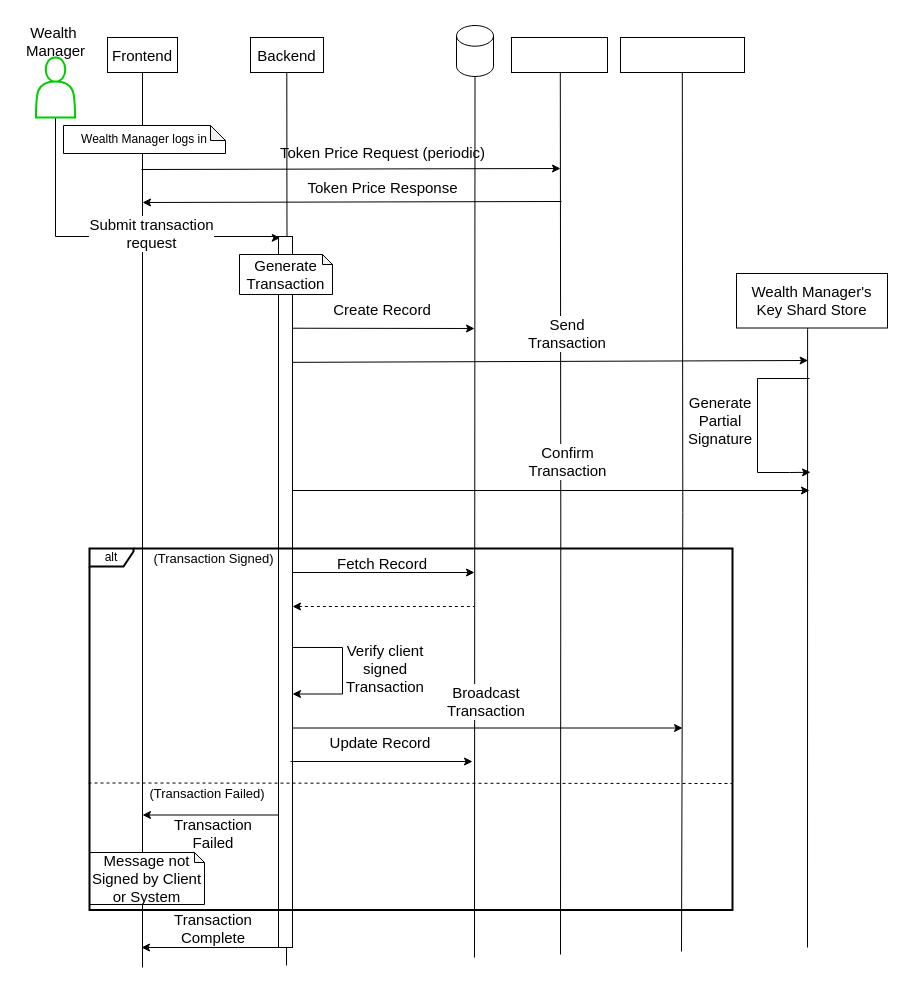
This 905x986 diagram has some shape labels left out. Here are the shapes that lost their labels. From the top down, the centre of each, then its label:
the point at 475,50: Database
the point at 559,54: Exchange API
the point at 682,54: Blockchain Gateway
